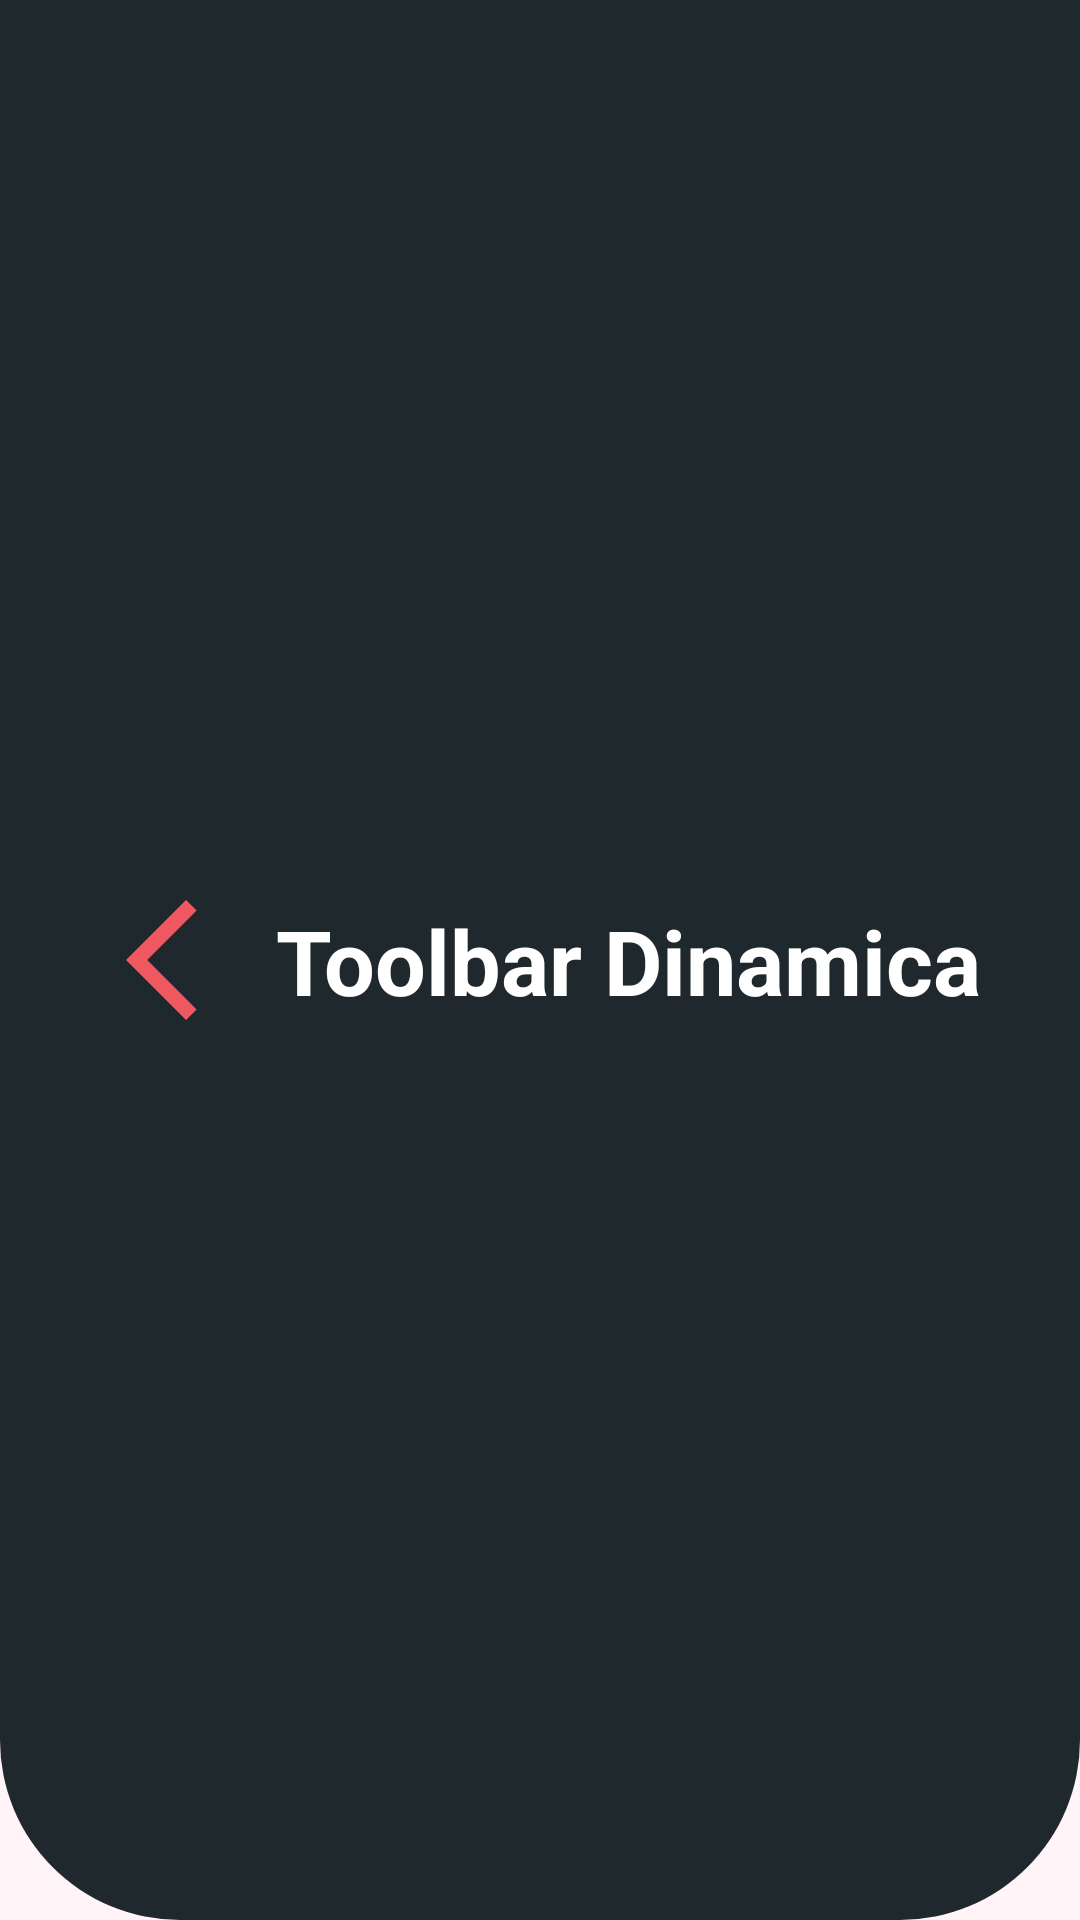

Icon bounding boxes for this 1080 × 1920 phone screenshot, format bbox(x1, y1, x2, y2):
Volver: bbox(126, 900, 197, 1020)
